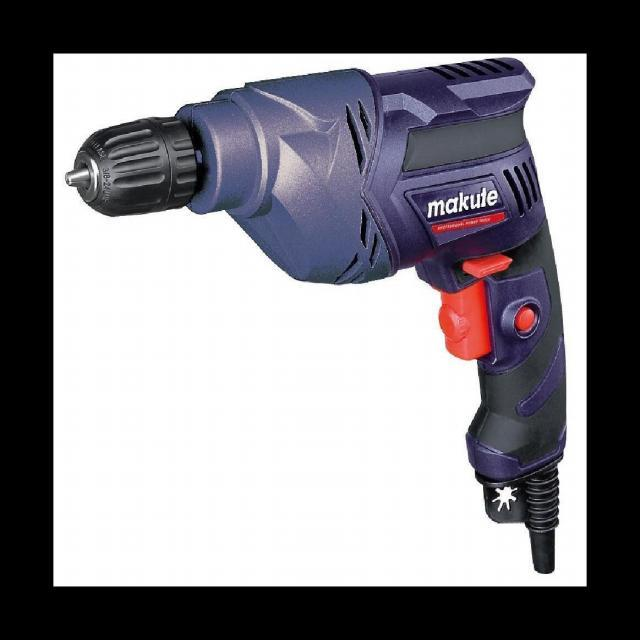drill: (64, 56, 568, 576)
